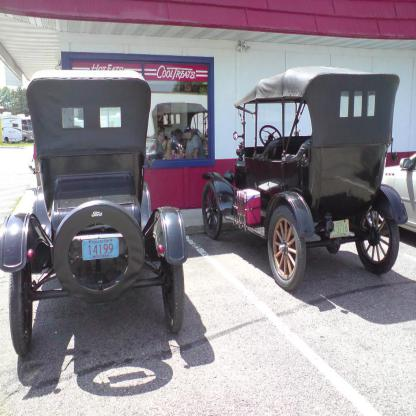Car: (0, 70, 188, 356), (202, 66, 408, 291), (145, 101, 208, 159)
